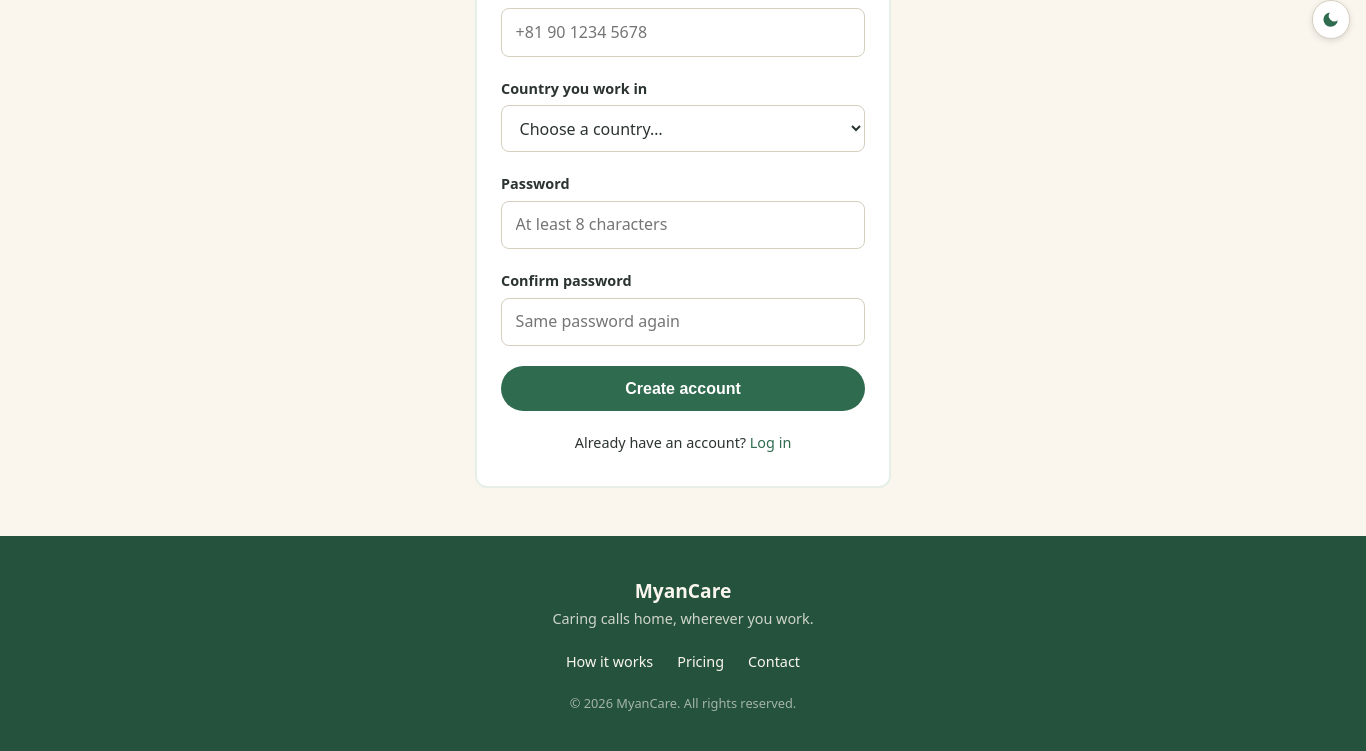
Test case: signup › shows friendly validation errors on empty submit
(page scrolled)
# Pages are lazy-loaded, so wait for the form to appear
Click the button "Create account": {"x": 683, "y": 389} [501,366,865,411]
(page scrolled)
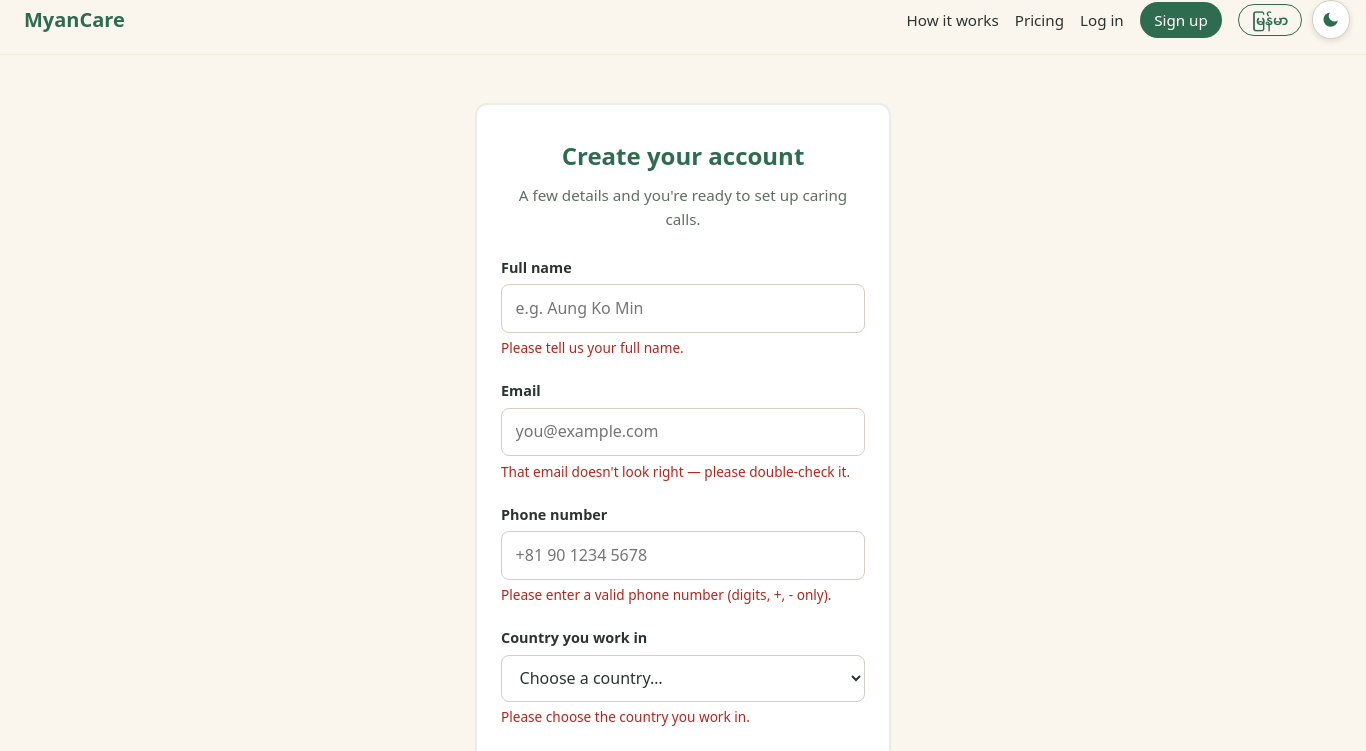
Expected: the text "Please tell us your full name." is shown, [501,338,684,357]
Expected: the text "That email doesn't look right — please double-check it." is shown, [501,461,865,483]
Expected: the text "Please choose the country you work in." is shown, [501,707,750,726]
